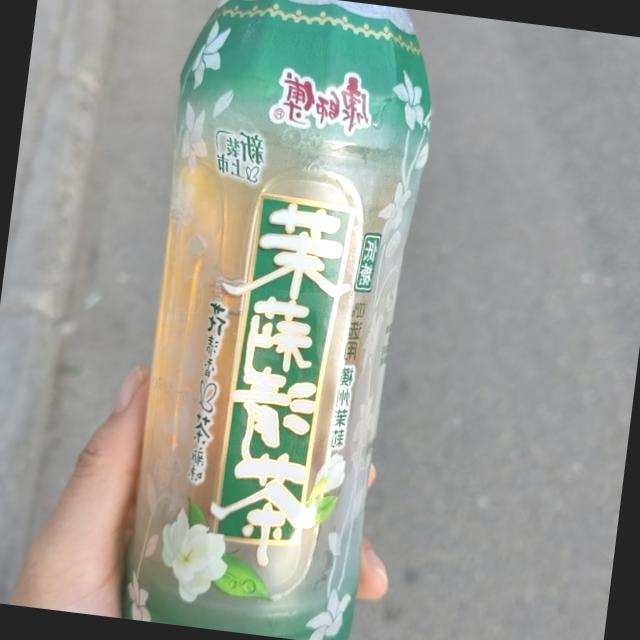bottle: (111, 0, 449, 640)
